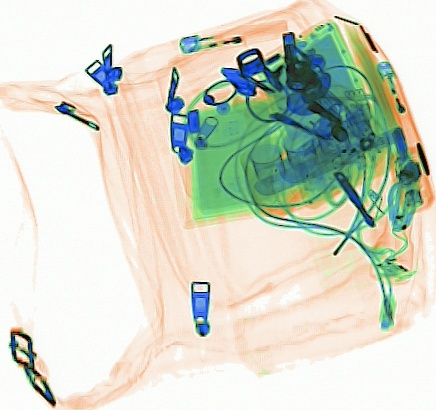lighter: (176, 18, 290, 56), (374, 59, 419, 147), (178, 17, 287, 52)
